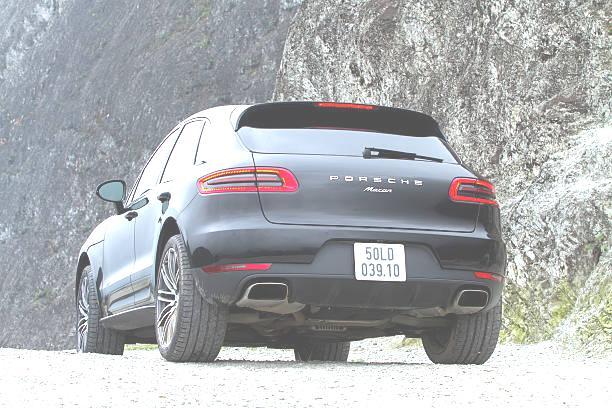porsche: (324, 167, 431, 190)
